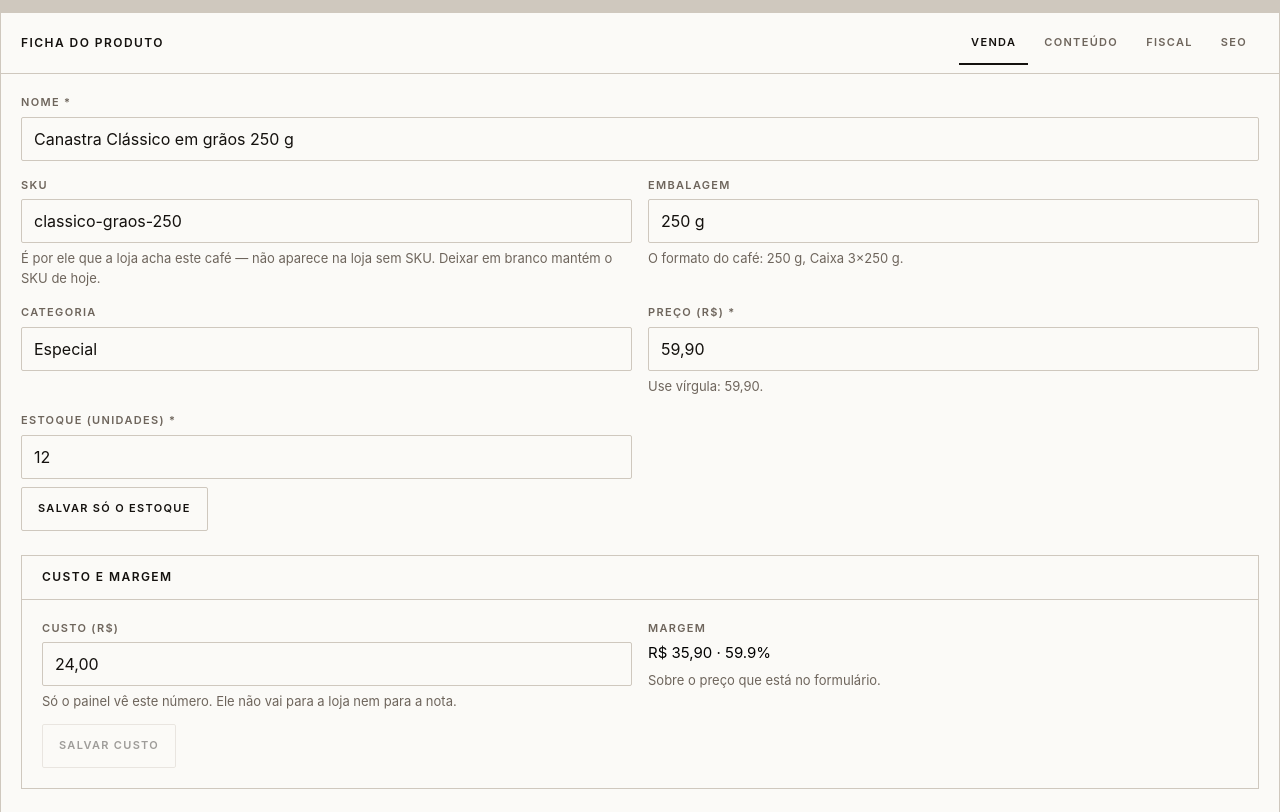
Test: os quatro campos de medida › medida apagada barra o salvamento e leva à aba onde ela está
The width and height of the screenshot is (1280, 812).
Click the tab "Fiscal" at (1169,43), box [1134,21,1205,65]
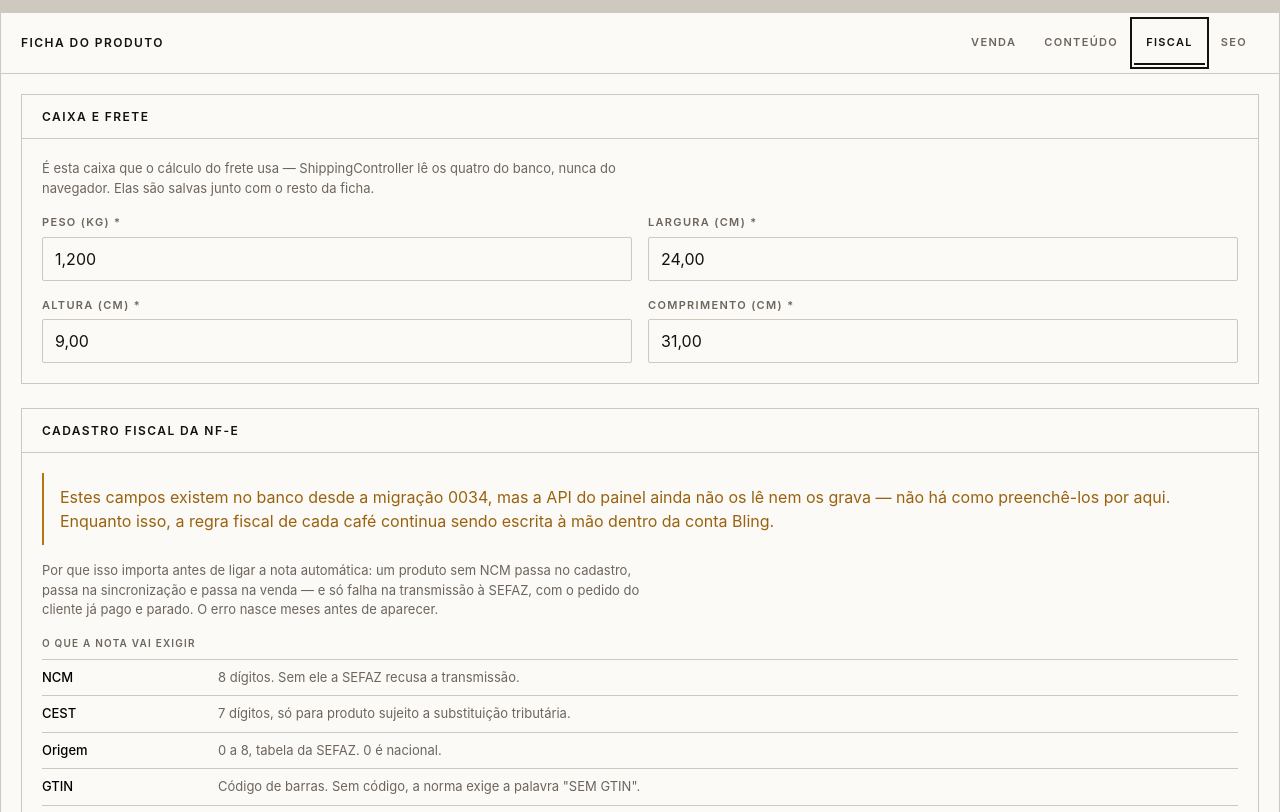
Clear the field labelled "Peso (kg) *" at (337,258), box [42,236,632,280]
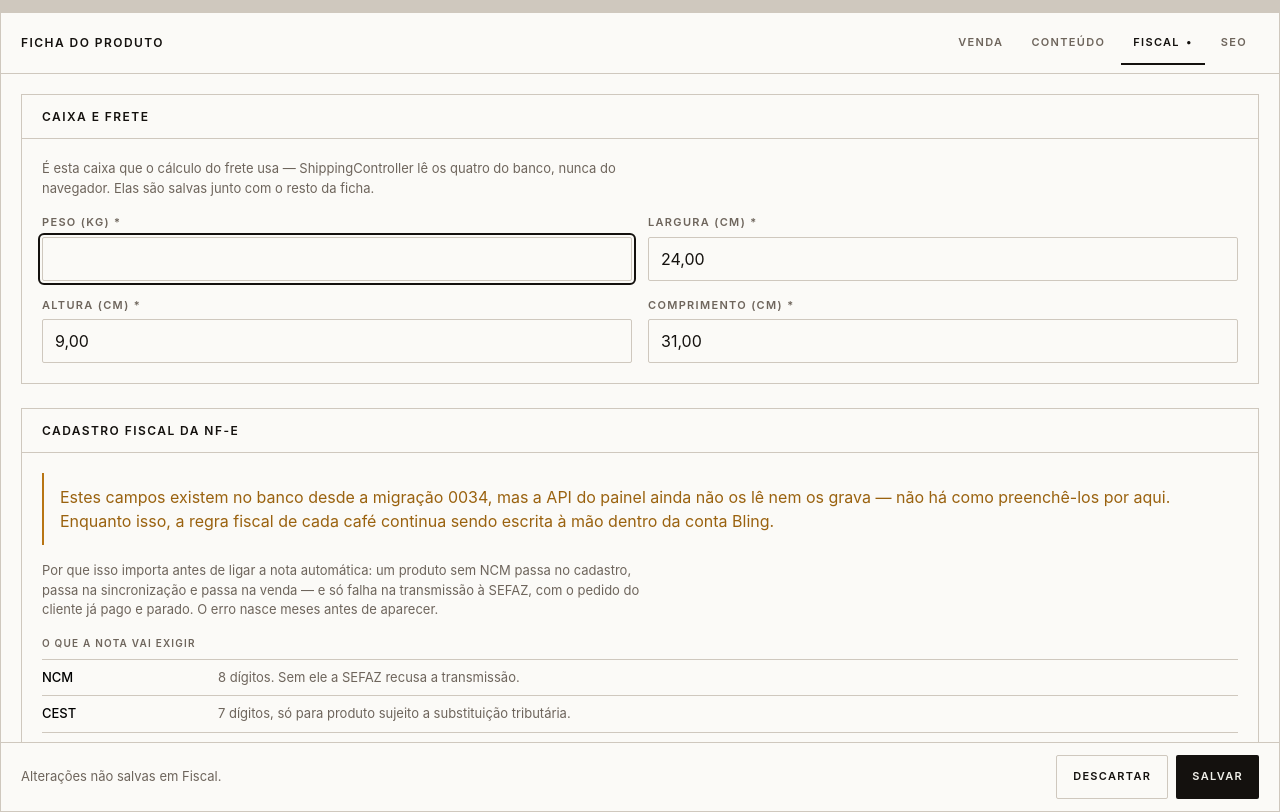
Click the tab "Venda" at (981,43), box [946,21,1015,65]
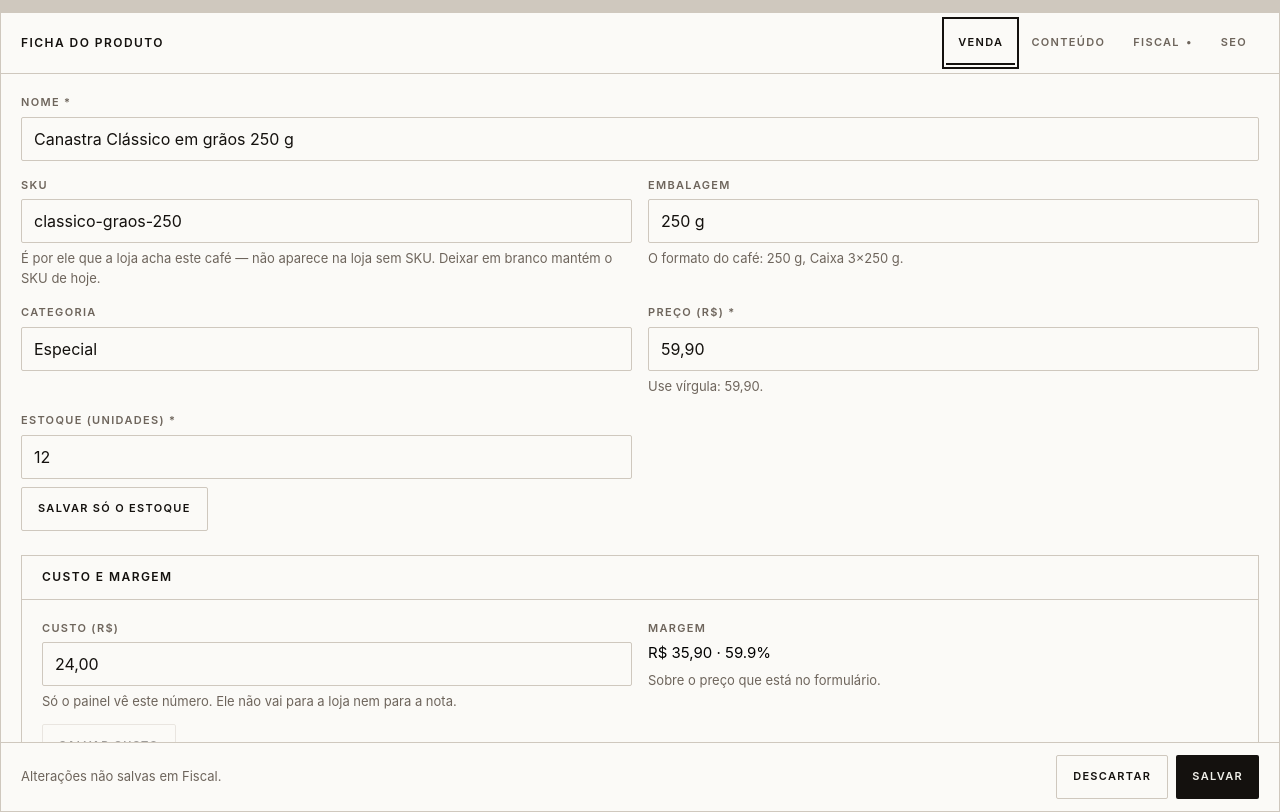
Click the button "Salvar" at (1218,777), box [1176,755,1259,799]
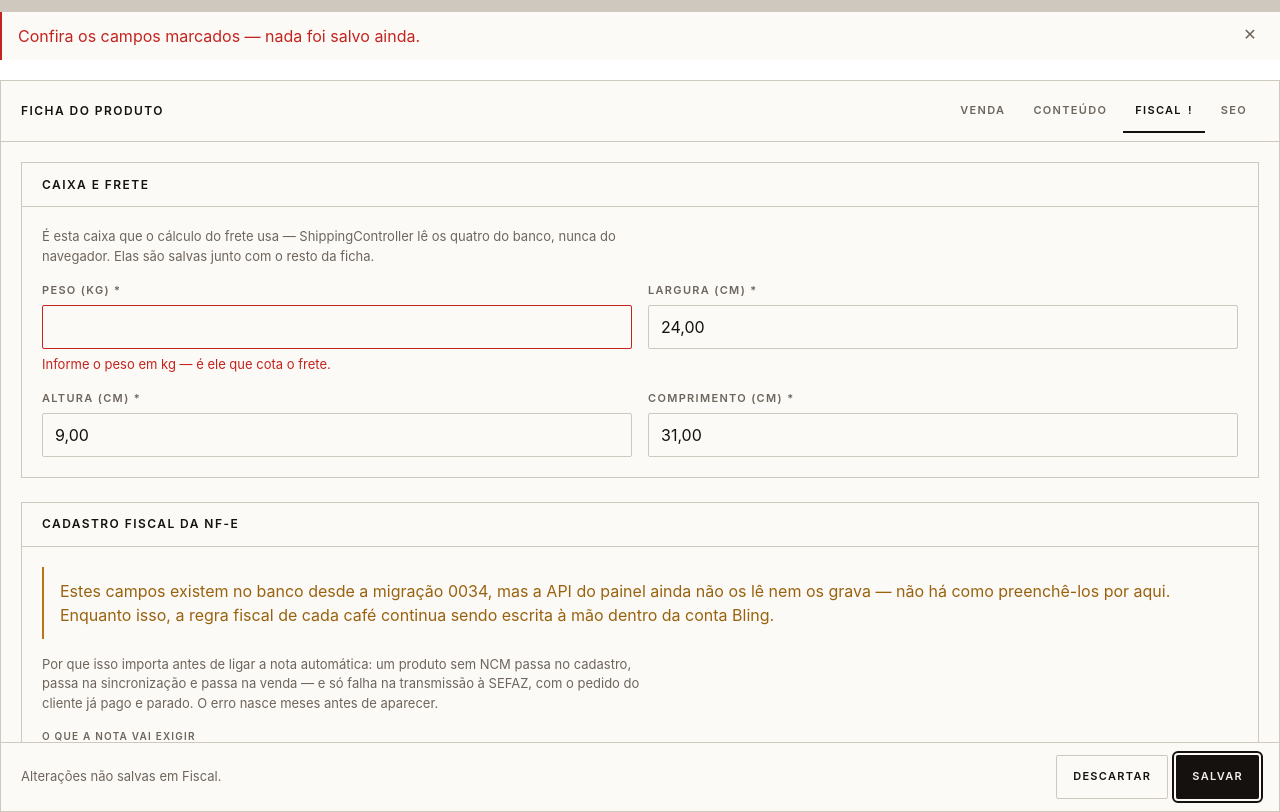
Expected: the message "Confira os campos marcados — nada foi salvo ainda. ✕" is shown, [0,12,1279,60]
